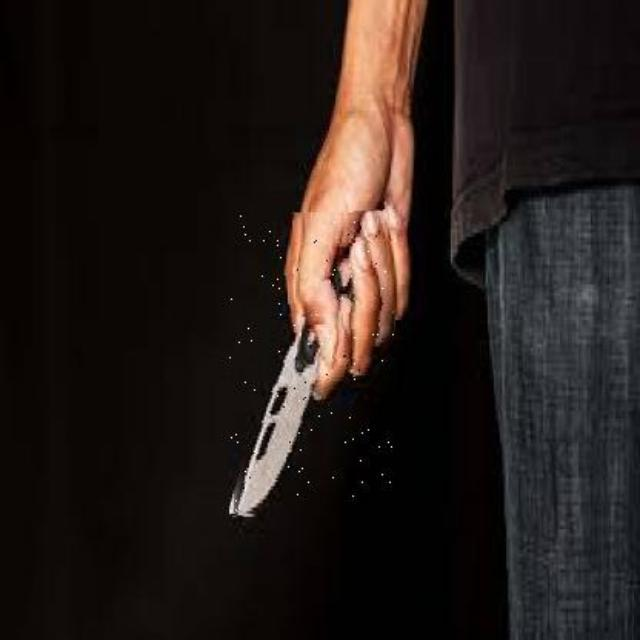Knife: (230, 212, 396, 516)
